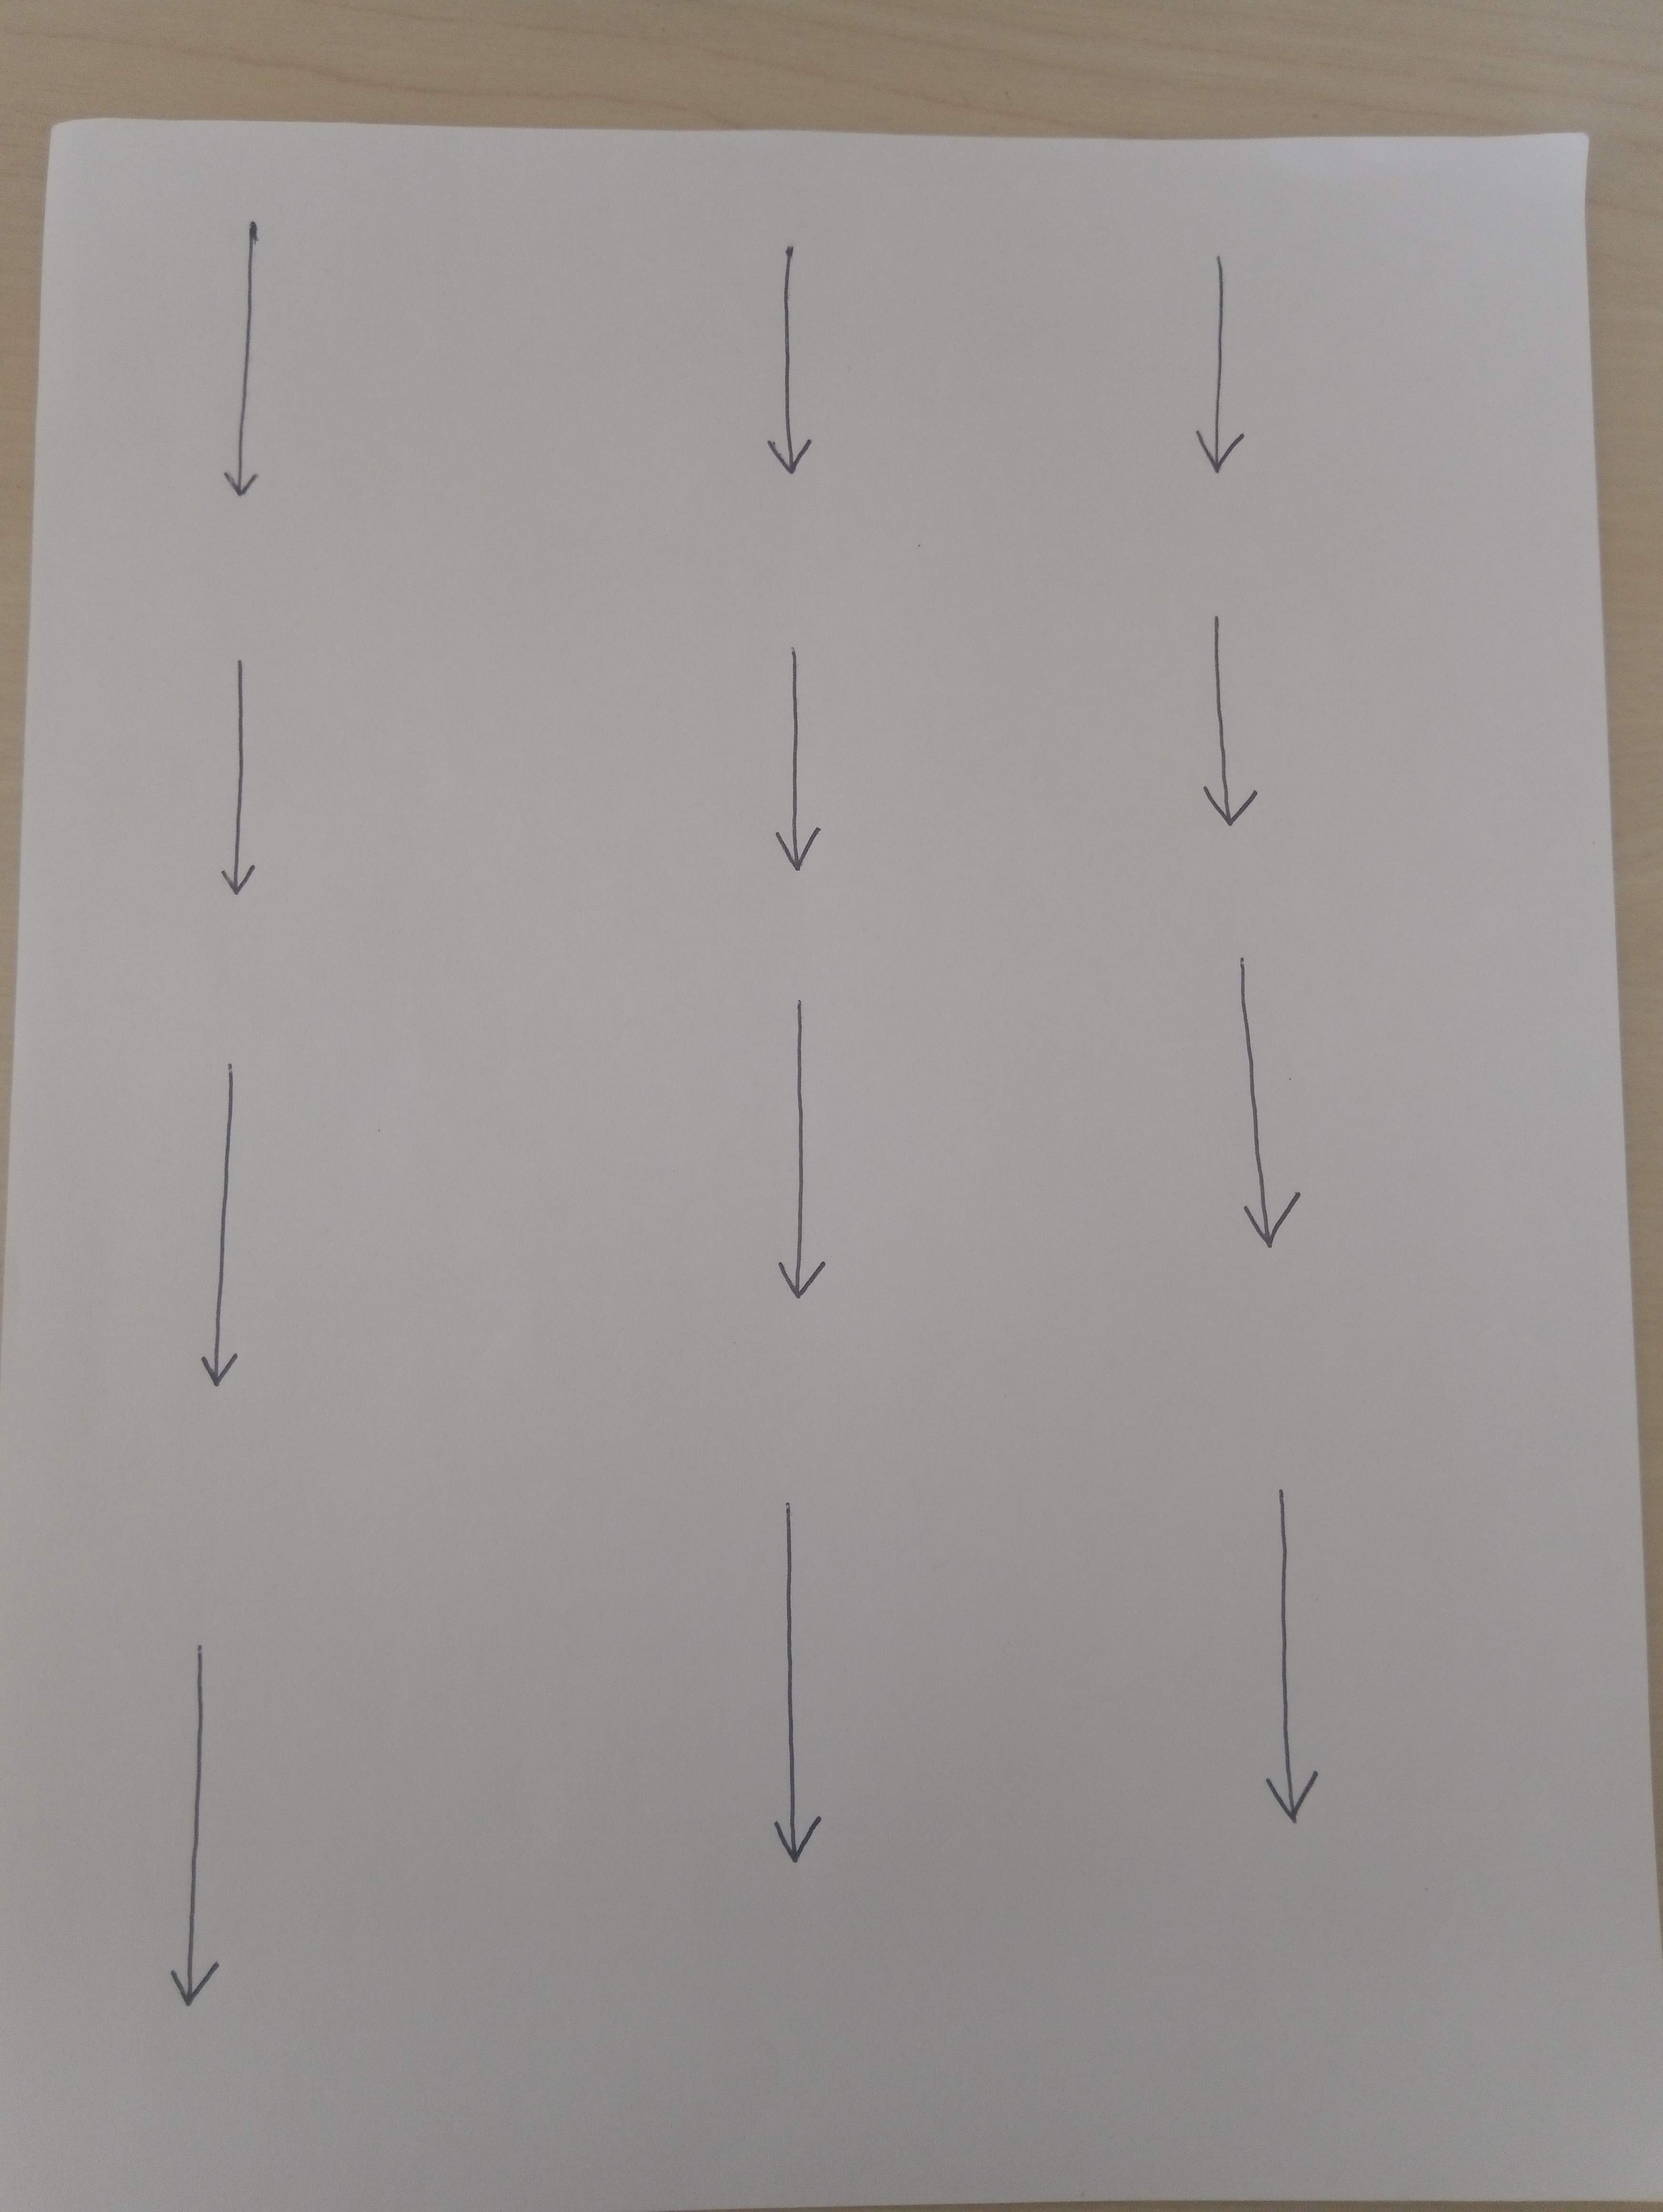arrow_line_down: (148, 1618, 259, 2037), (1228, 1475, 1345, 1851), (164, 1065, 274, 1398), (1209, 958, 1322, 1278), (772, 1491, 842, 1875), (1169, 244, 1279, 475), (1183, 618, 1289, 845), (201, 215, 281, 512), (744, 637, 835, 885), (758, 1051, 838, 1318), (758, 222, 831, 478), (218, 651, 267, 908)
